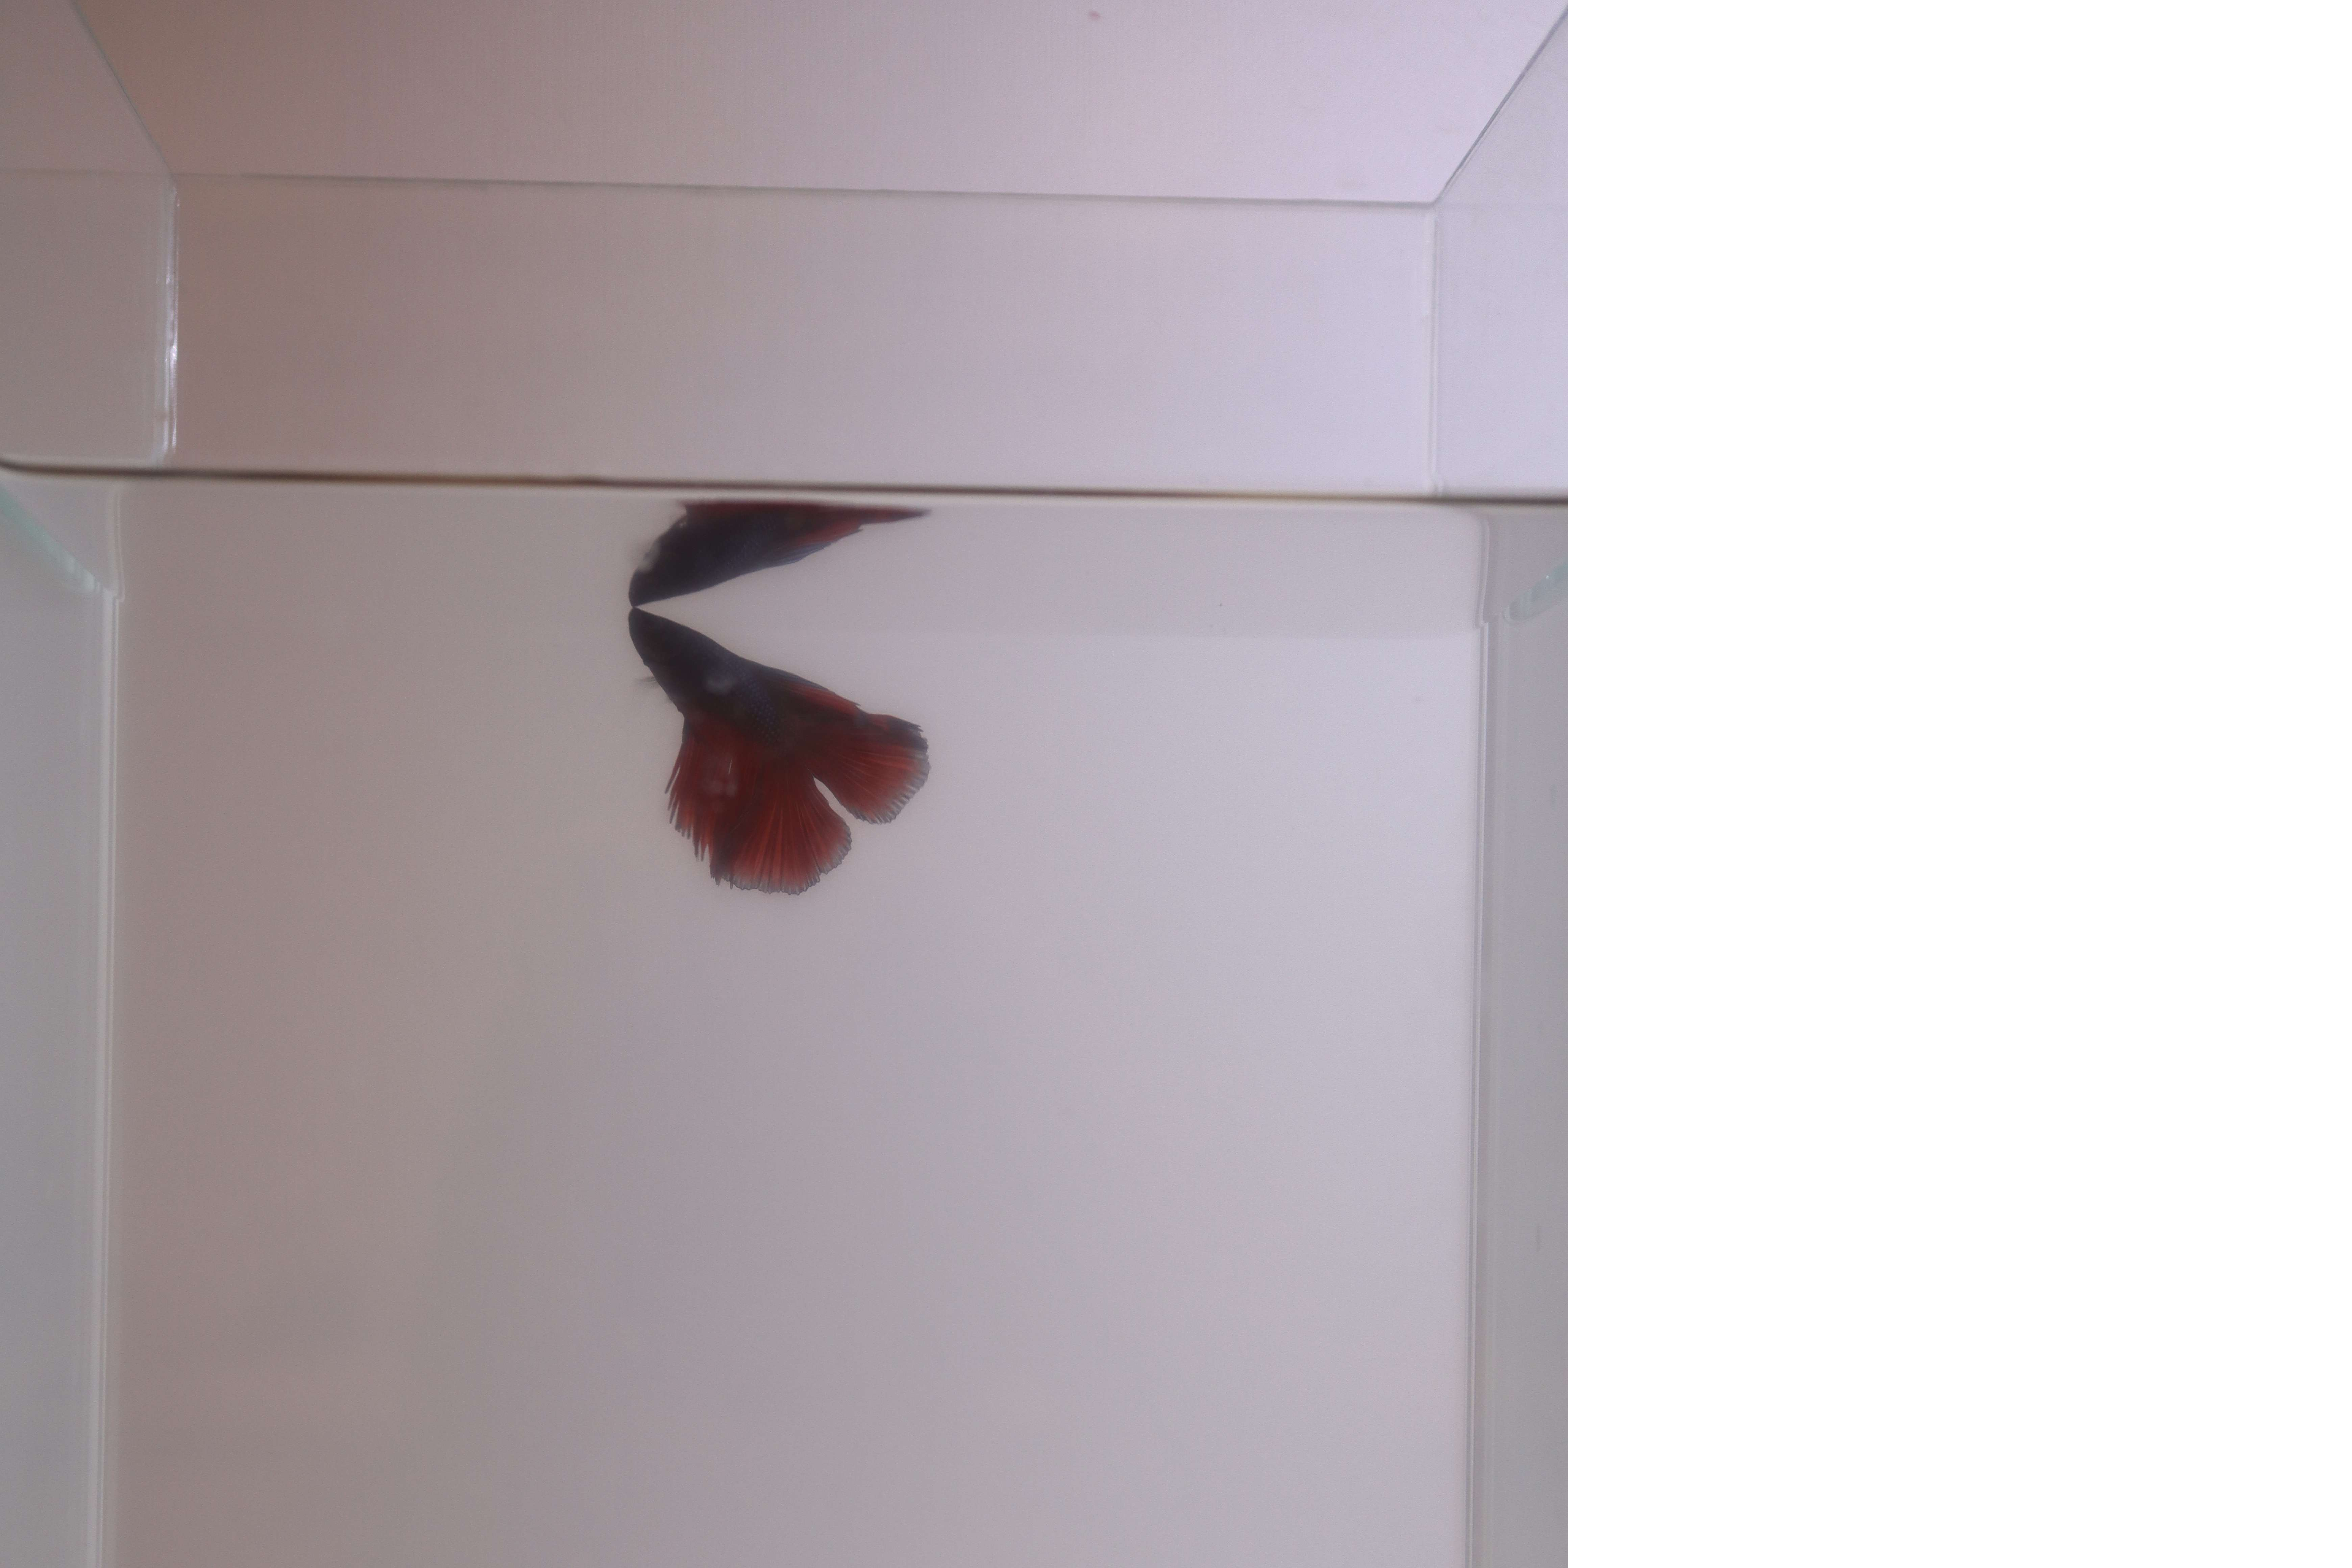fish: (614, 607, 942, 896)
